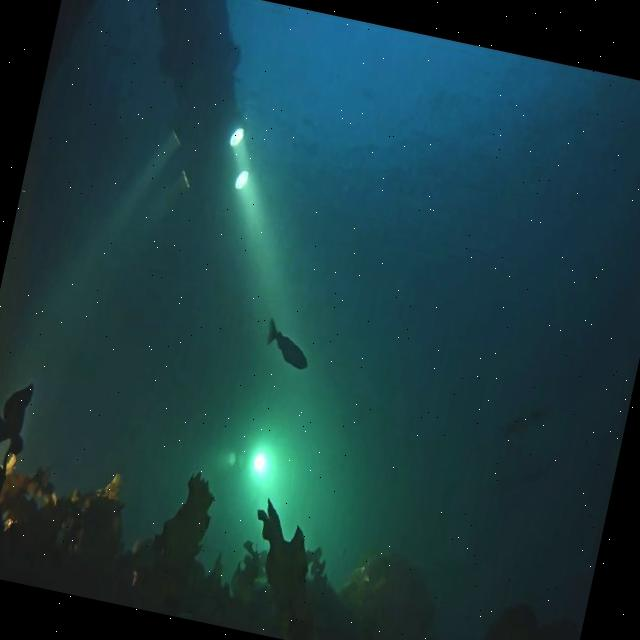fish: (258, 314, 316, 374)
